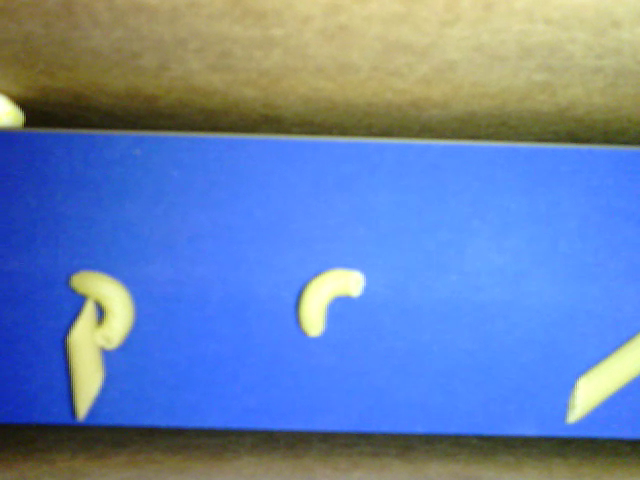elbow: (70, 269, 135, 350), (295, 266, 365, 335)
penne: (566, 331, 639, 428), (65, 295, 106, 420)
